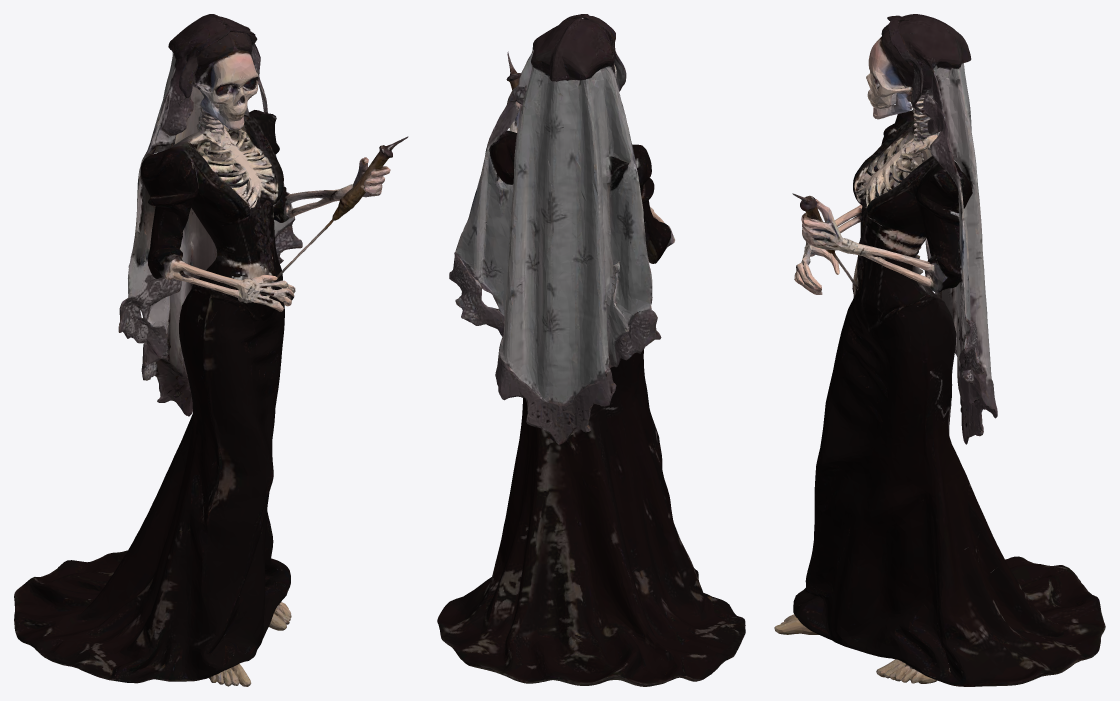
Rendered from 04_Lady_Evangeline.glb.
3 views of the same model, side by side, from view 1: azimuth 30°, elevation 25°; view 2: azimuth 150°, elevation 25°; view 3: azimuth 270°, elevation 25° (orthographic). The views are drawn at different scales.
Parts seen in each view (by area): view 1: world; view 2: world; view 3: world.
Part boxes in pixels (x1,y1,x2,y2): world: (14,14,408,686); world: (437,14,745,686); world: (774,14,1105,686).
Size of the model in its own units: 1.02 by 1.99 by 0.9384.
Materials: 1 (1 with a texture image).
